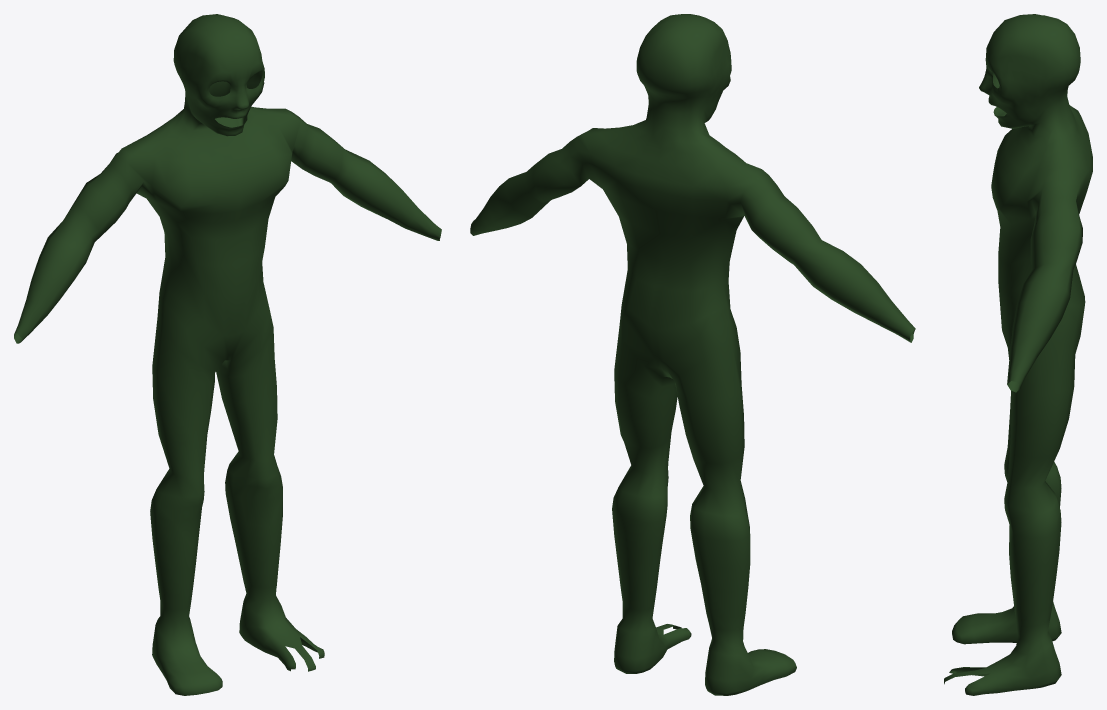
The model's file is LazarusProtoType.fbx.
3 renders of one model, left to right at view 1: azimuth 30°, elevation 25°; view 2: azimuth 150°, elevation 25°; view 3: azimuth 270°, elevation 25°, orthographic. The views are drawn at different scales.
Parts seen in each view (by area): view 1: LazarusPrototype.001; view 2: LazarusPrototype.001; view 3: LazarusPrototype.001.
Boxes of the visible parts, left/top/right/bottom form: LazarusPrototype.001: left=14, top=14, right=441, bottom=695; LazarusPrototype.001: left=470, top=14, right=915, bottom=695; LazarusPrototype.001: left=944, top=14, right=1092, bottom=695.
Bounding box in the file's own units: 123 × 175 × 36.86.
